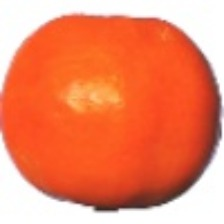tangerine: (23, 60, 176, 196)
